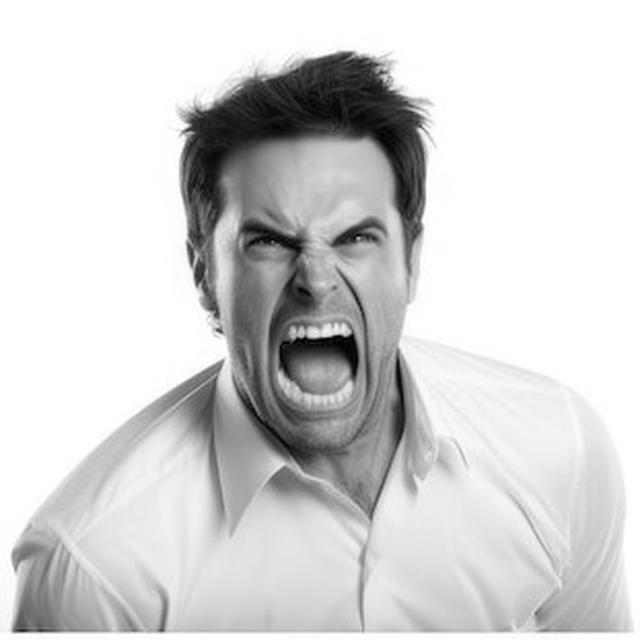Angry: (209, 141, 409, 452)
